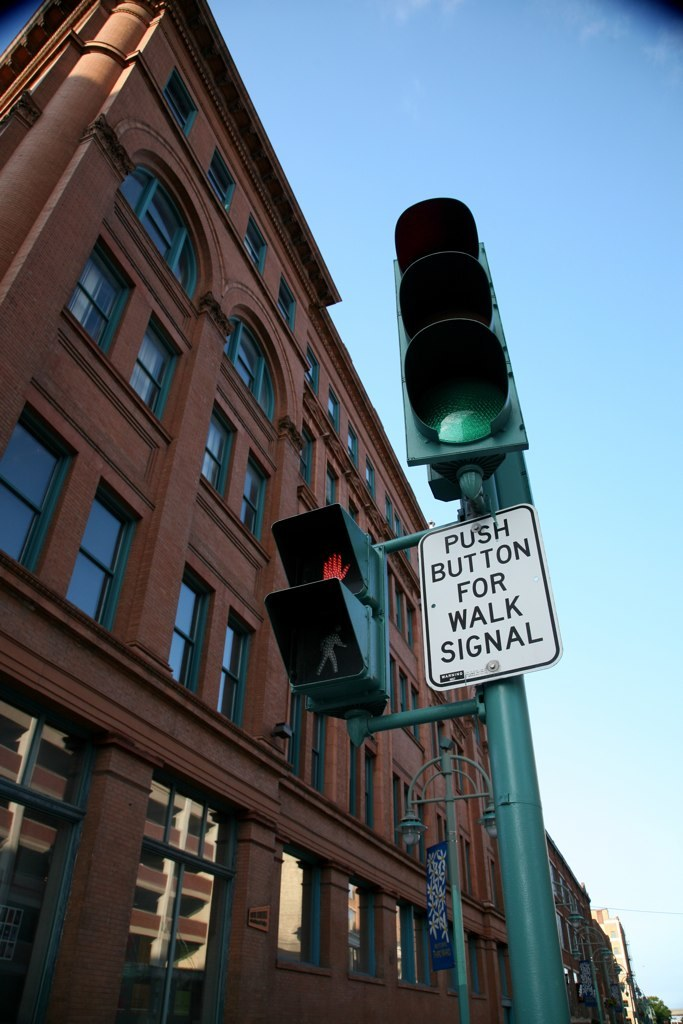green_light: (397, 198, 509, 451)
